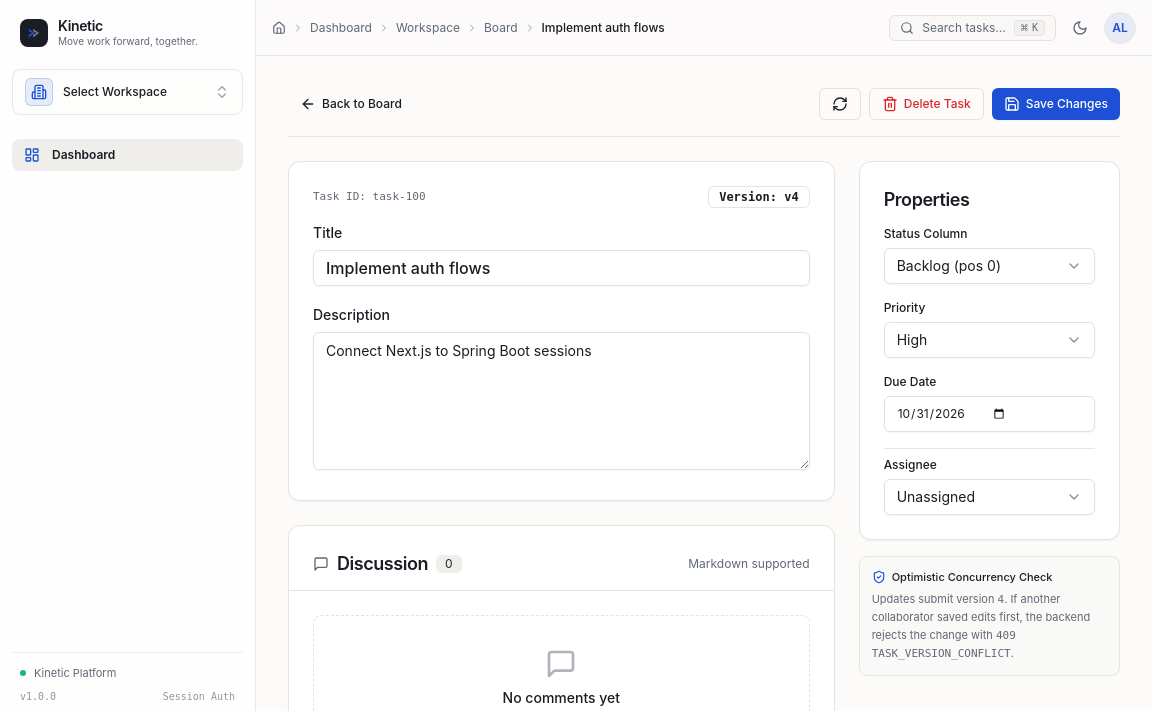
TaskDetailPage Flow › displays conflict error alert on 409 TASK_VERSION_CONFLICT
Expected: the field showing "Implement auth flows" is shown, [313,250,810,286]
Click the button "Save Changes" at (1056, 104), box [992,88,1120,120]
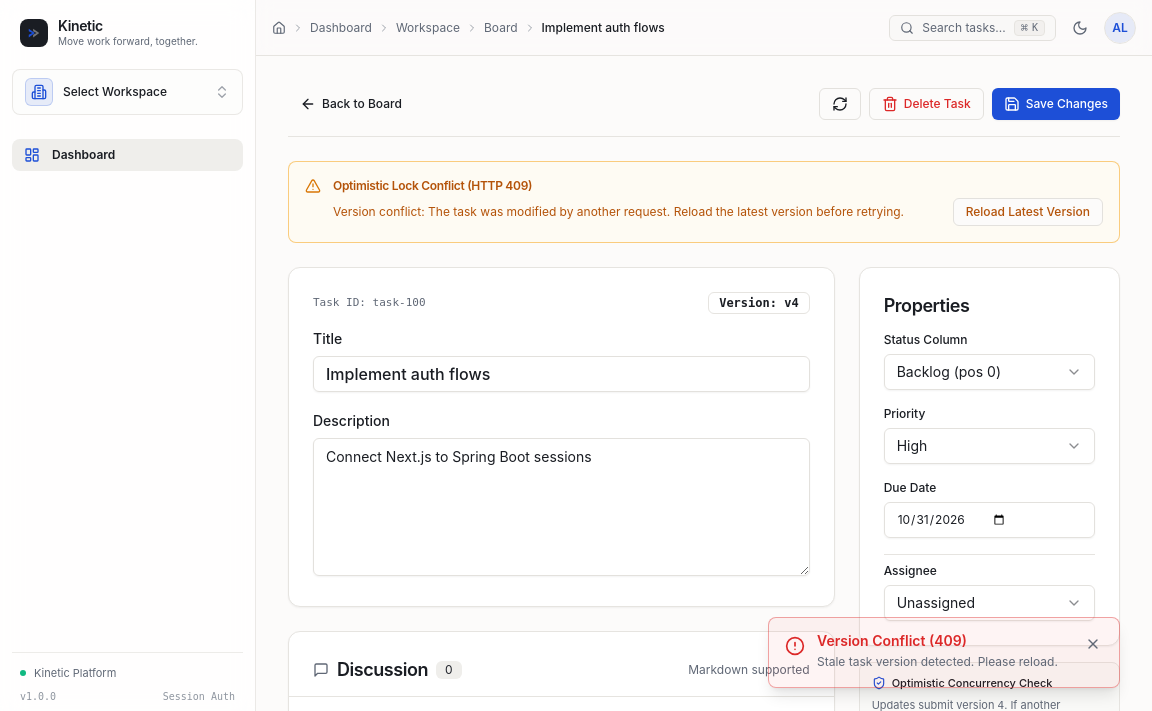
Now the heading "Optimistic Lock Conflict (HTTP 409)" is shown, box [333,178,532,193]
Now the button "Reload Latest Version" is shown, box [953,198,1103,226]
